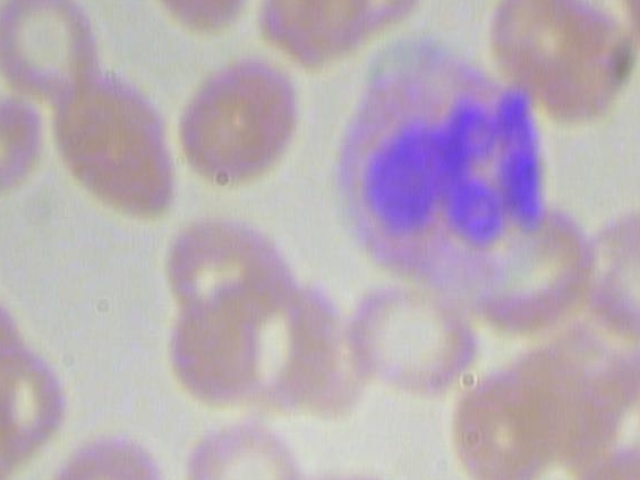RBC: (39, 59, 190, 226), (167, 55, 311, 198), (482, 0, 640, 130), (342, 269, 481, 402), (0, 0, 121, 101), (569, 194, 640, 341), (181, 409, 317, 480), (38, 422, 174, 480), (573, 444, 640, 480)
WBC: (317, 32, 551, 294)
